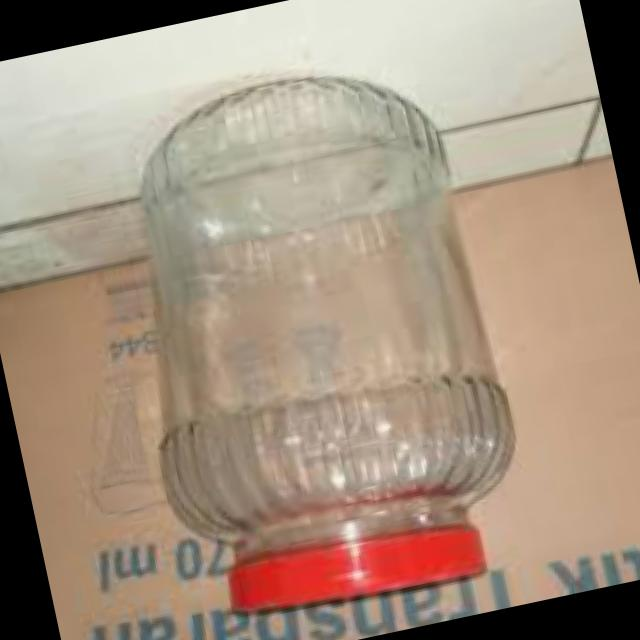ToplesKaca: (84, 47, 548, 640)
